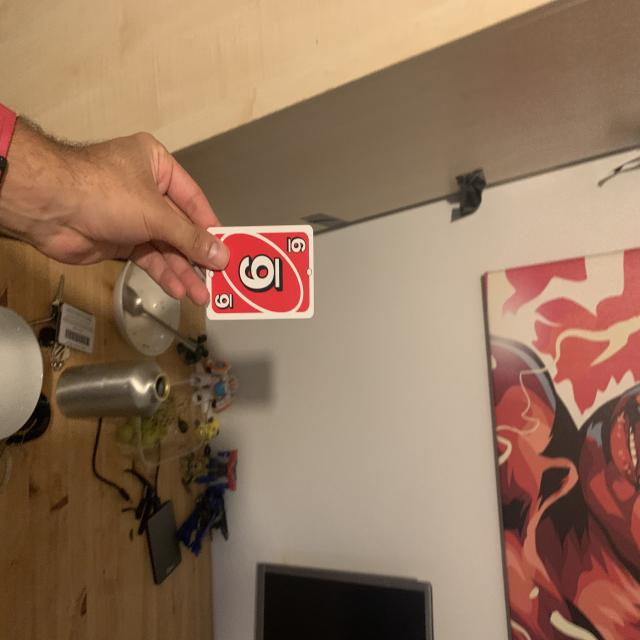lgreen-6: (281, 232, 309, 259)
